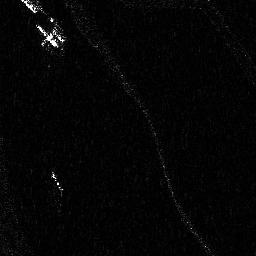ship: (35, 23, 60, 49), (50, 170, 64, 192)
